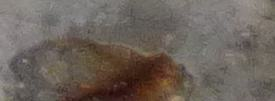Corrosion: (8, 37, 196, 101)
